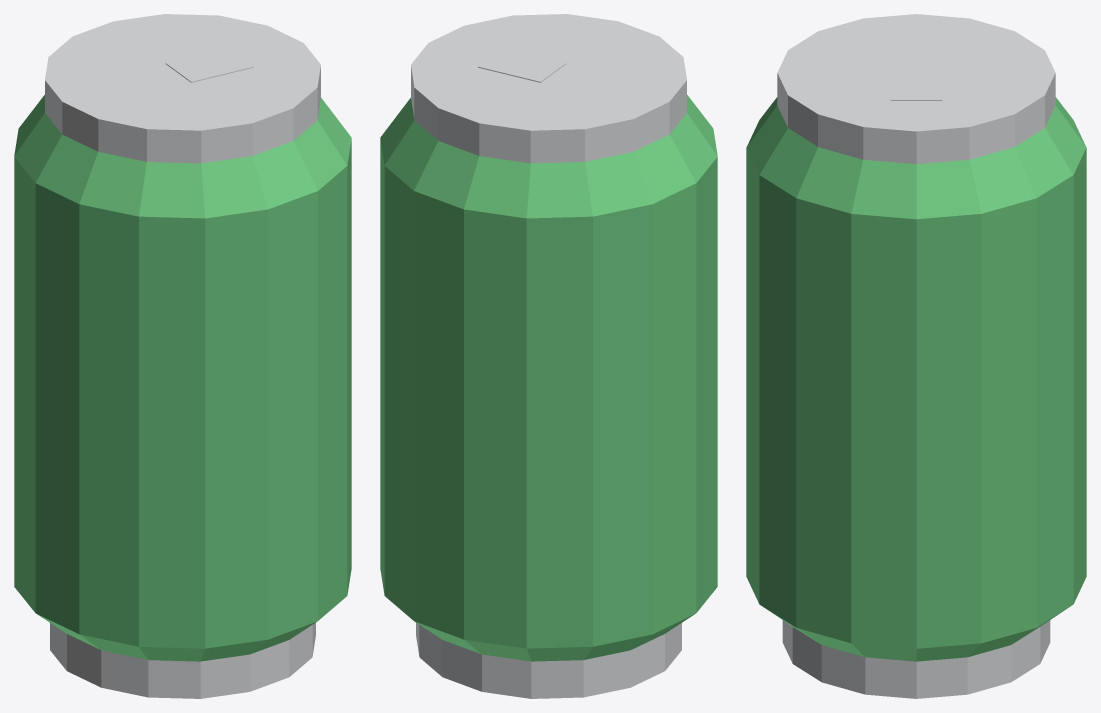
File: soda_can_green.glb
The picture shows the model from 3 angles, left to right: view 1: azimuth 30°, elevation 25°; view 2: azimuth 150°, elevation 25°; view 3: azimuth 270°, elevation 25°; orthographic projection.
Bounding box in the file's own units: 0.066 × 0.1222 × 0.066.
